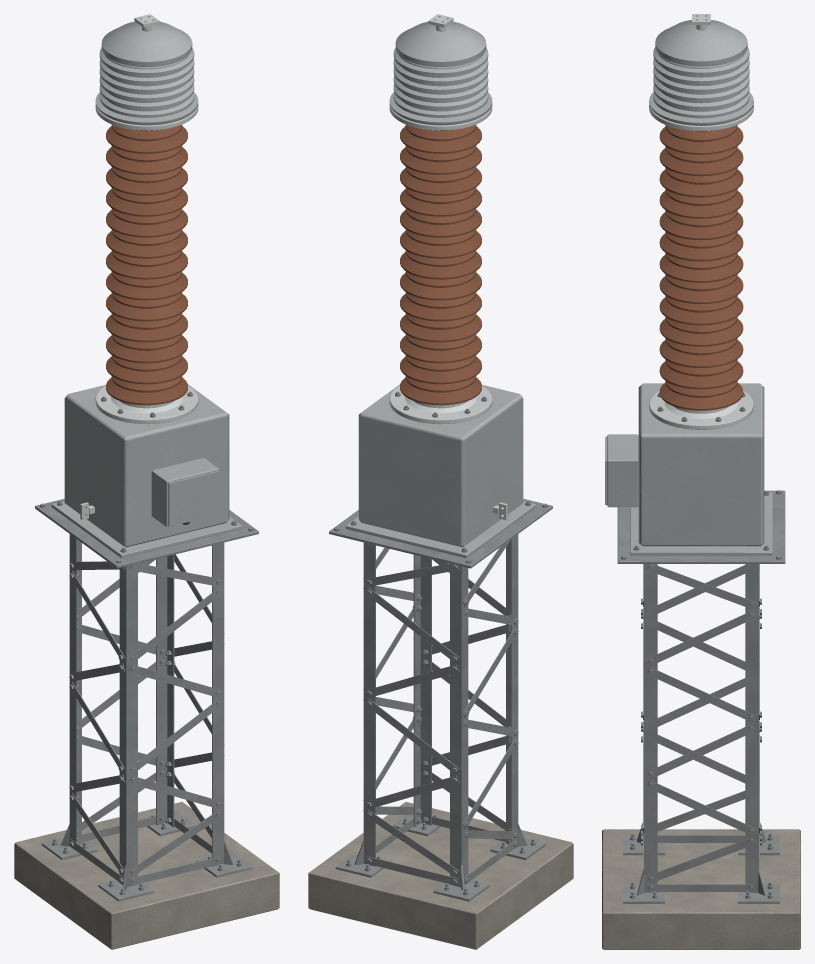
The model's file is VoltageTransformer_138kV.fbx.
The picture shows the model from 3 angles, left to right: view 1: azimuth 30°, elevation 25°; view 2: azimuth 150°, elevation 25°; view 3: azimuth 270°, elevation 25°; orthographic projection.
Visible parts, largest first — view 1: Body_GalvanizedSteel_LOD0, Body_CoatedSteel_LOD0, Body_PorcelainBrown_LOD0, Body_Concrete_LOD0, Body_Aluminium_LOD0; view 2: Body_GalvanizedSteel_LOD0, Body_CoatedSteel_LOD0, Body_PorcelainBrown_LOD0, Body_Concrete_LOD0, Body_Aluminium_LOD0; view 3: Body_CoatedSteel_LOD0, Body_GalvanizedSteel_LOD0, Body_PorcelainBrown_LOD0, Body_Concrete_LOD0, Body_Aluminium_LOD0.
Boxes of the visible parts, x1,y1,x2,y2 form: Body_GalvanizedSteel_LOD0: (35,127,258,901); Body_CoatedSteel_LOD0: (51,21,242,558); Body_PorcelainBrown_LOD0: (106,124,187,405); Body_Concrete_LOD0: (14,802,279,949); Body_Aluminium_LOD0: (80,14,198,519); Body_GalvanizedSteel_LOD0: (329,127,552,901); Body_CoatedSteel_LOD0: (345,21,536,558); Body_PorcelainBrown_LOD0: (400,124,481,405); Body_Concrete_LOD0: (308,802,573,949); Body_Aluminium_LOD0: (389,14,507,519); Body_CoatedSteel_LOD0: (605,20,772,555); Body_GalvanizedSteel_LOD0: (617,129,785,903); Body_PorcelainBrown_LOD0: (659,125,743,410); Body_Concrete_LOD0: (602,829,800,949); Body_Aluminium_LOD0: (649,14,753,429).
Size of what is drawn, in the model's own units: 0.95 by 4.69 by 0.95.
